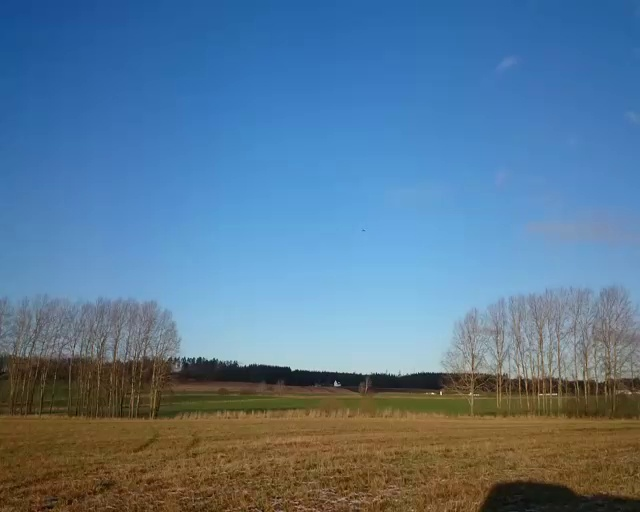DRONE: (360, 227, 367, 233)
